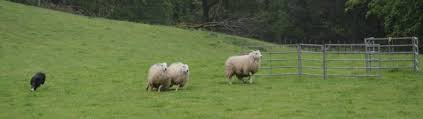sheep: (221, 49, 265, 84), (138, 59, 172, 94), (164, 59, 191, 94)
